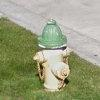Hydrant: (29, 9, 81, 99)
